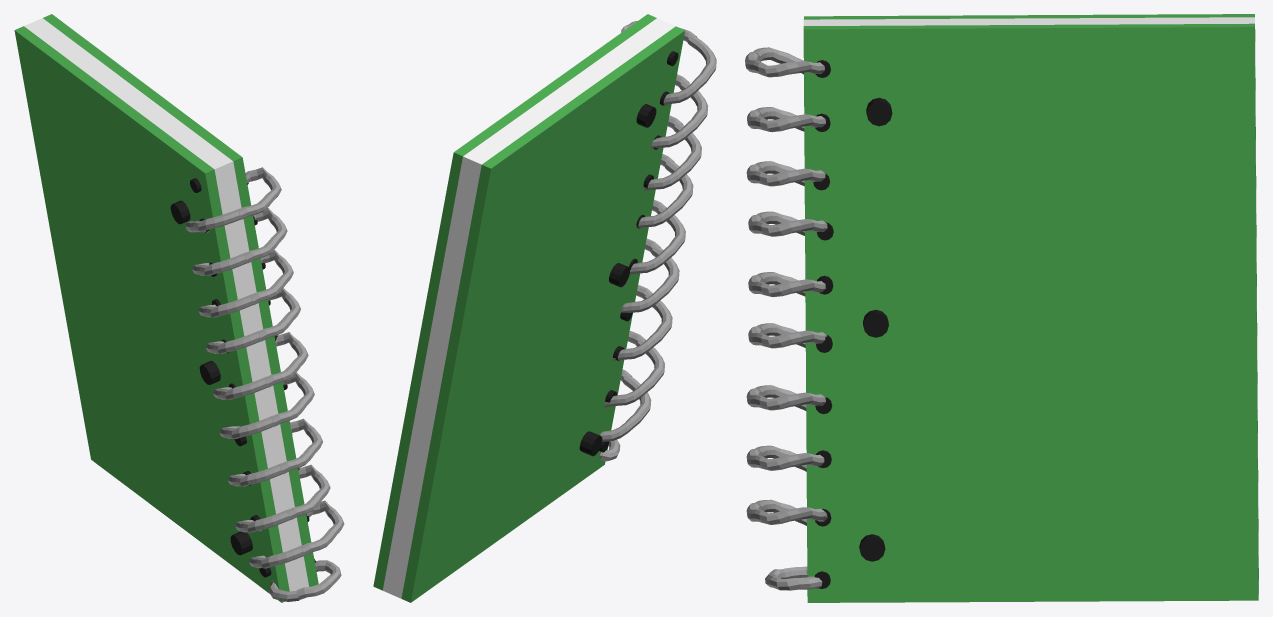
Rendered from thesis.glb.
The picture shows the model from 3 angles, left to right: view 1: azimuth 30°, elevation 25°; view 2: azimuth 150°, elevation 25°; view 3: azimuth 270°, elevation 25°; orthographic projection. The views are drawn at different scales.
Visible parts, largest first — view 1: group1791086134; view 2: group1791086134; view 3: group1791086134.
Part boxes in pixels (x1,y1,x2,y2): group1791086134: [14, 14, 344, 602]; group1791086134: [373, 14, 716, 602]; group1791086134: [745, 14, 1258, 602].
Bounding box in the file's own units: 0.4269 × 1.27 × 1.09.
